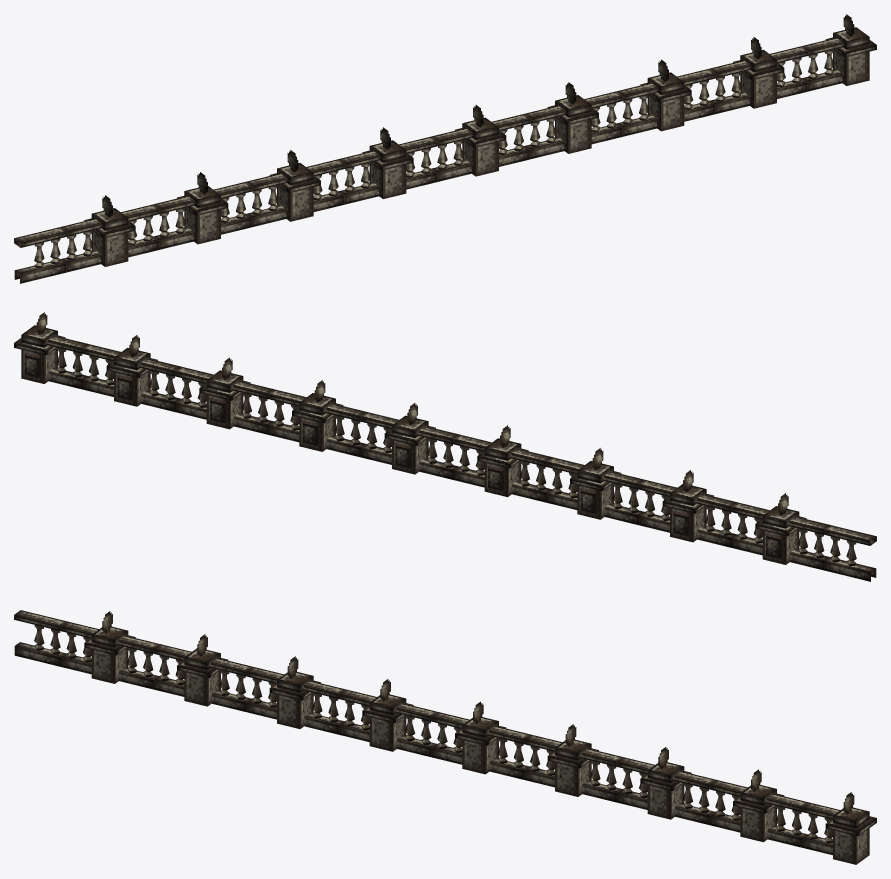
Rendered from EnvBdgMD_Theater_A_Outdoor_Fence_A.FBX.
The picture shows the model from 3 angles, top to bottom: view 1: azimuth 30°, elevation 25°; view 2: azimuth 150°, elevation 25°; view 3: azimuth 330°, elevation 25°; orthographic projection.
Visible parts, largest first — view 1: EnvBdgMD_Theater_A_Outdoor_Fence_A; view 2: EnvBdgMD_Theater_A_Outdoor_Fence_A; view 3: EnvBdgMD_Theater_A_Outdoor_Fence_A.
Part boxes in pixels (box(x1,y1,x2,y2)): EnvBdgMD_Theater_A_Outdoor_Fence_A: box(14, 14, 876, 283); EnvBdgMD_Theater_A_Outdoor_Fence_A: box(14, 312, 876, 581); EnvBdgMD_Theater_A_Outdoor_Fence_A: box(14, 610, 876, 864).
Size of the model in its own units: 1835 by 130 by 70.09.
Materials: 1 (1 with a texture image).
